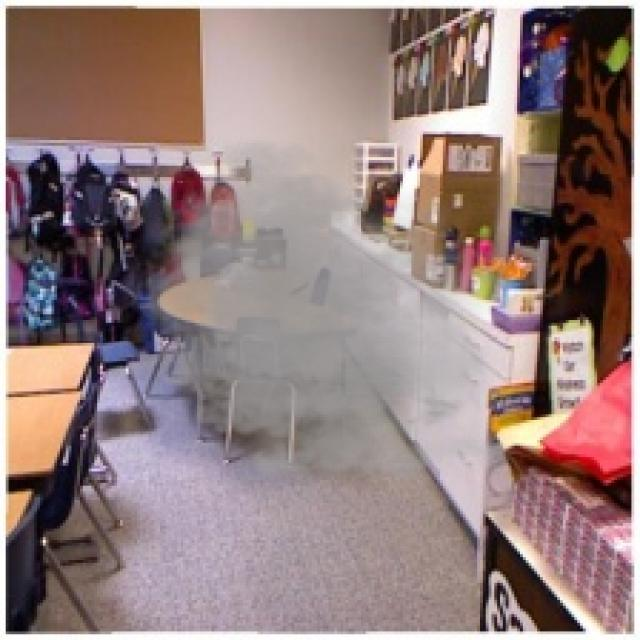smoke: (117, 126, 526, 503)
